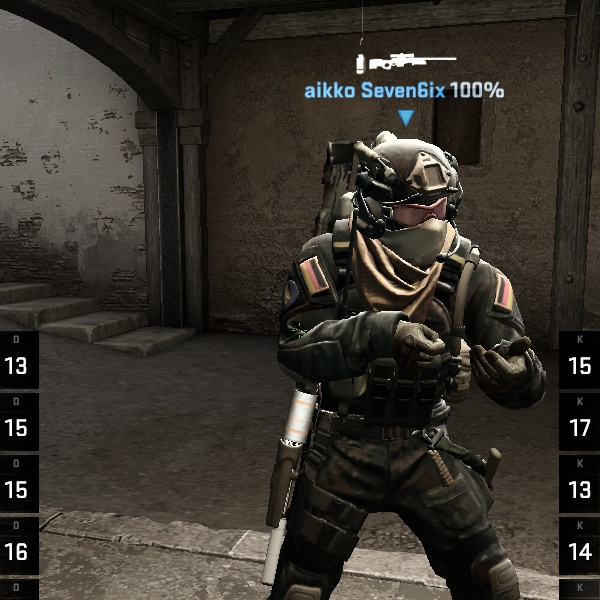ct_body: (240, 134, 553, 594)
ct_head: (334, 128, 477, 278)
